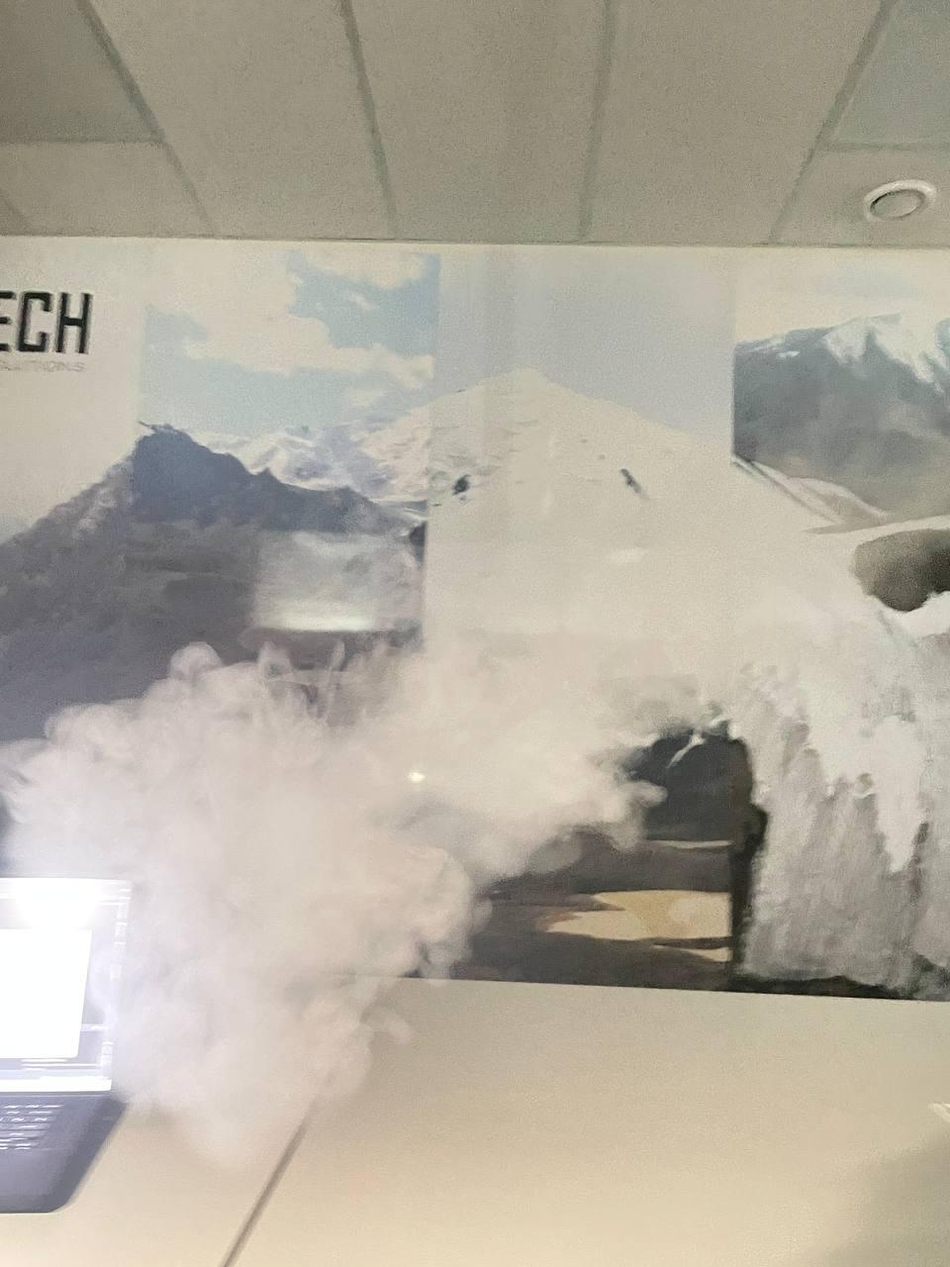smoke: (0, 484, 711, 1150)
